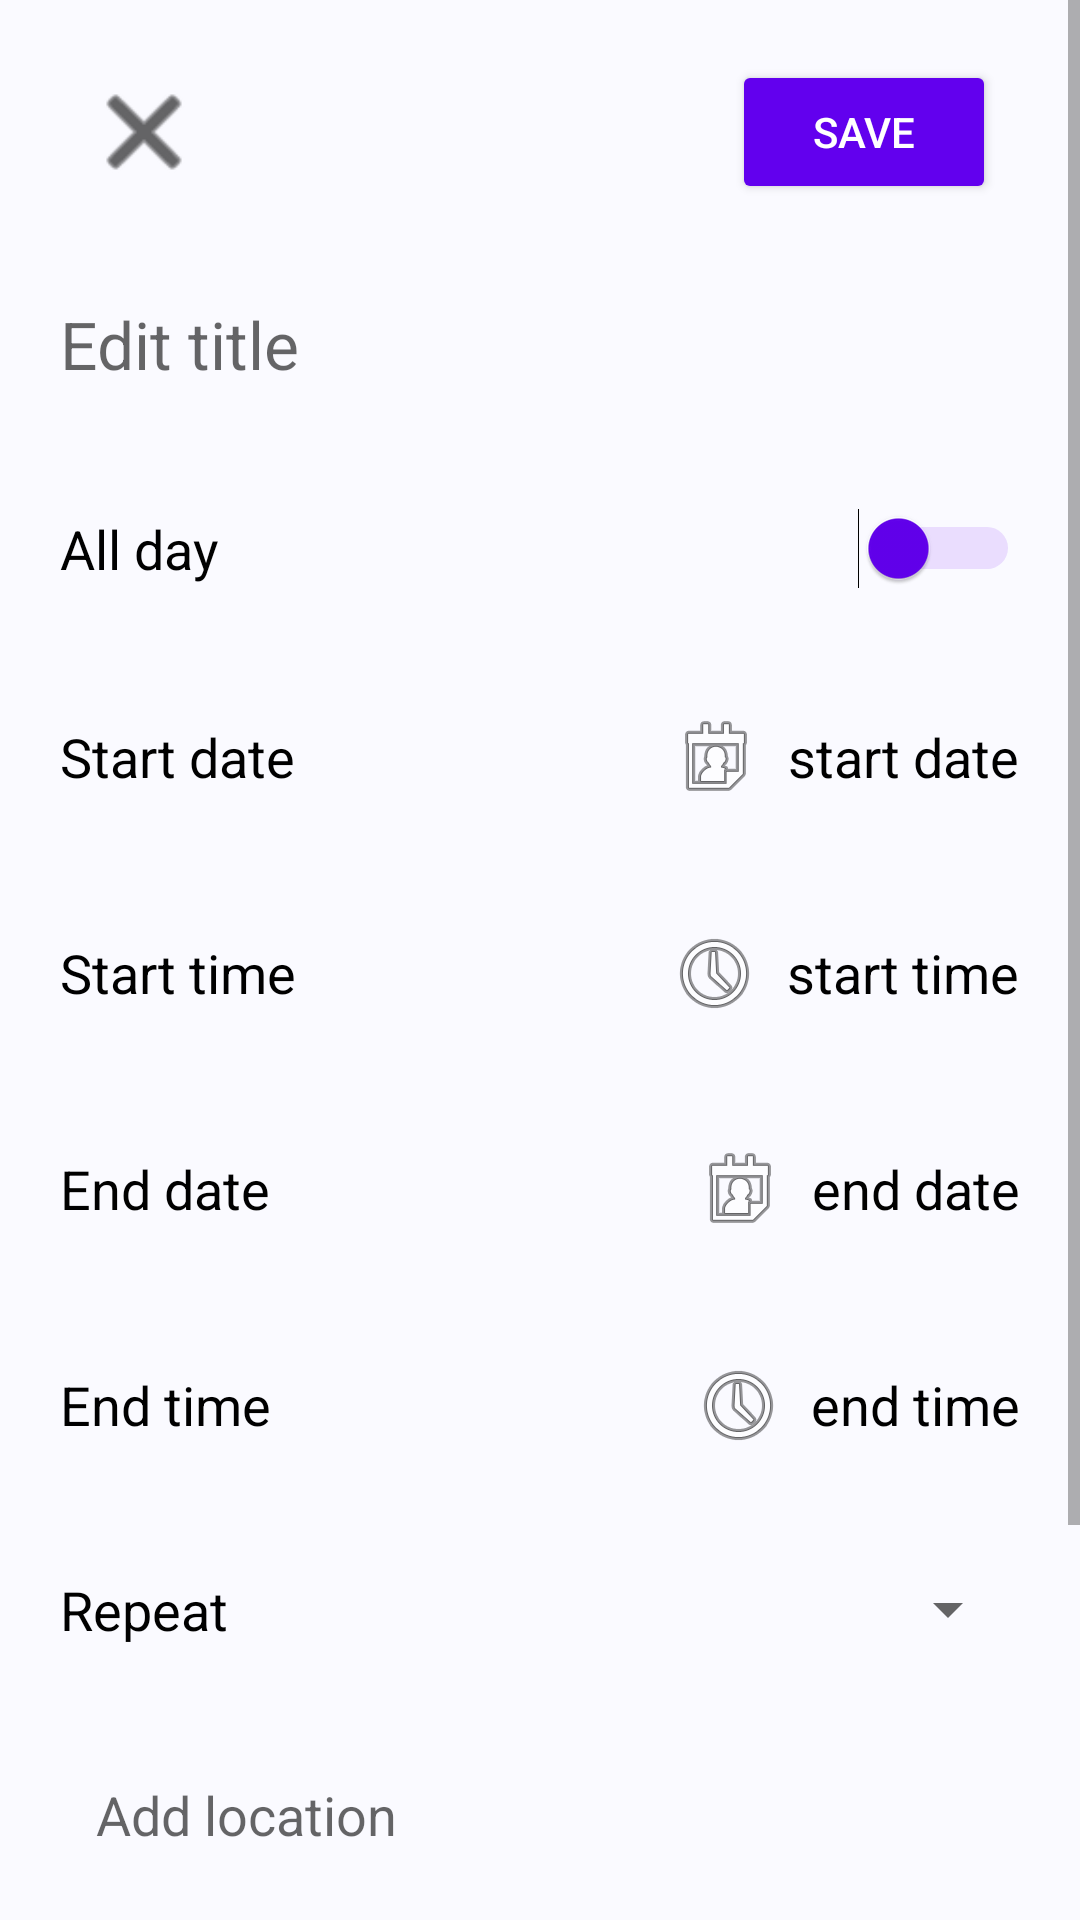

Where icons sit on this 1080w x 1920h app screen, as region(x1, y1, x2, y2):
calendar: region(685, 721, 747, 791), region(709, 1153, 771, 1223)
Close: region(106, 94, 182, 170)
